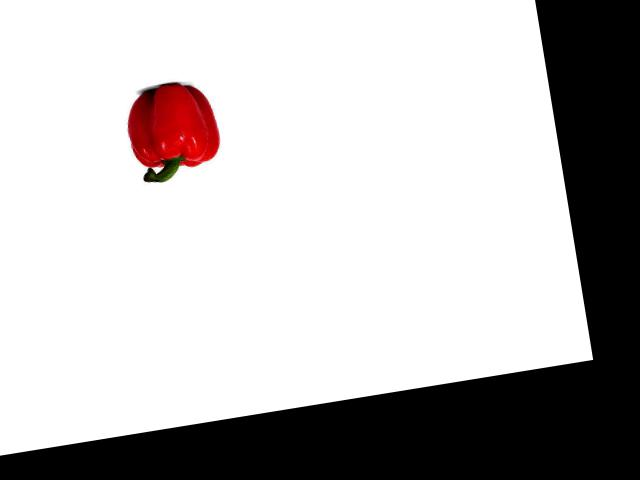bell_pepper: (119, 77, 230, 188)
